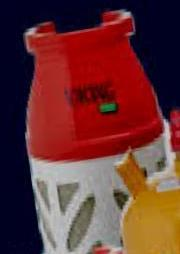cylinder: (0, 1, 180, 254)
